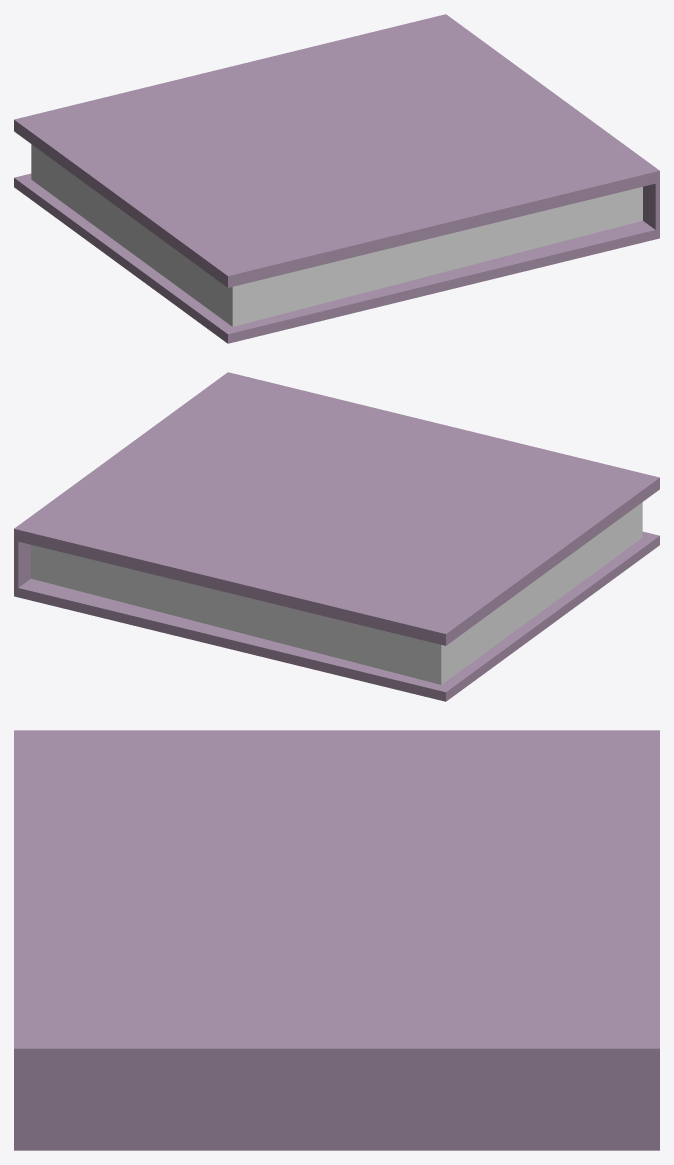
The model's file is Book3.fbx.
3 renders of one model, top to bottom at view 1: azimuth 30°, elevation 25°; view 2: azimuth 150°, elevation 25°; view 3: azimuth 270°, elevation 25°, orthographic. The views are drawn at different scales.
Visible parts, largest first — view 1: Book1; view 2: Book1; view 3: Book1.
Part boxes in pixels (x1,y1,x2,y2): Book1: (14,14,659,343); Book1: (14,372,659,701); Book1: (14,730,659,1150).
Bounding box in the file's own units: 0.8071 × 0.1208 × 0.6923.
